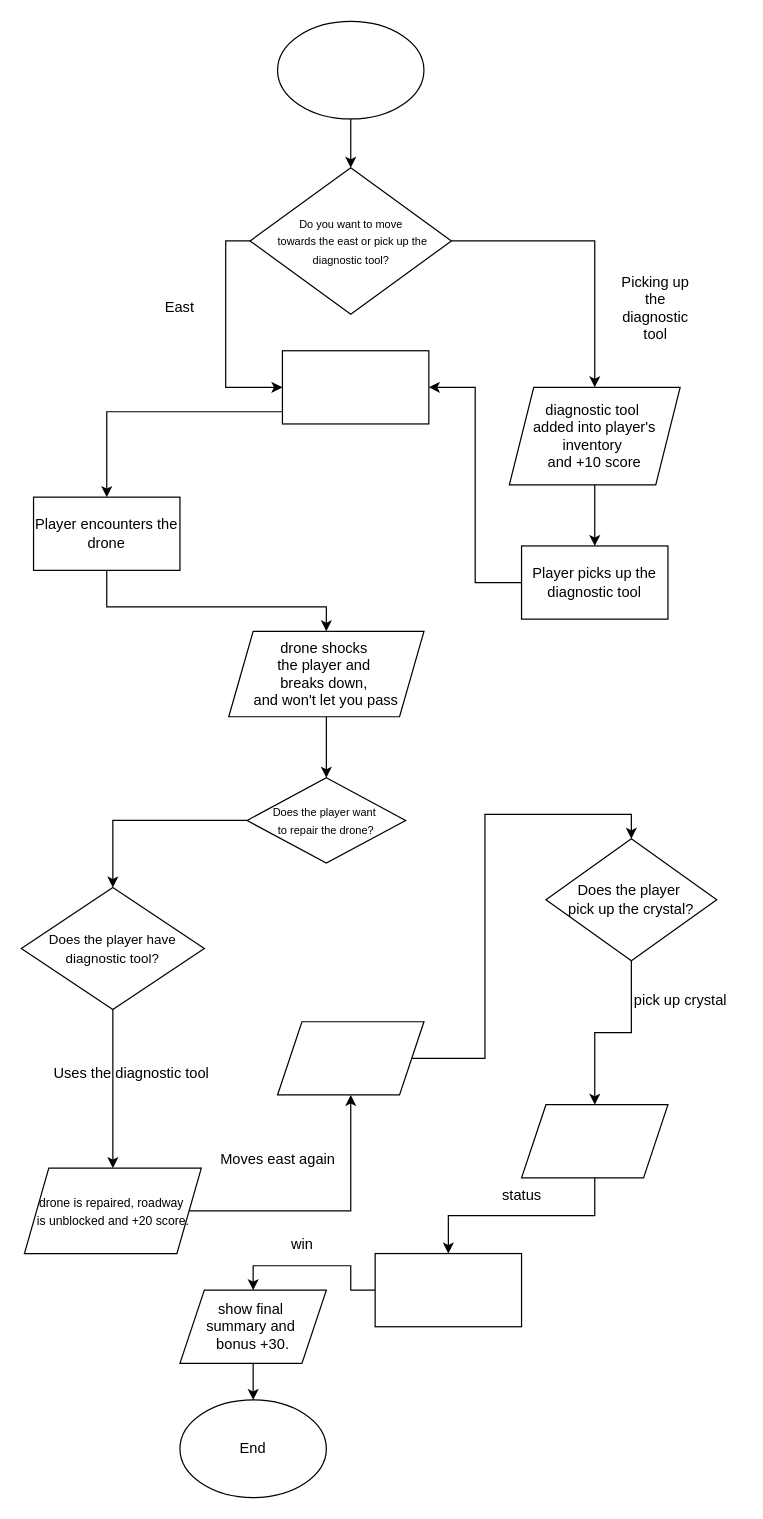
Image size: 763x1519. Some labels were removed from this diagram. The shapes that lost their labels are listed below. From the top down, each one's centre as x and y in pixels, then its label:
At pixel 350 69: "Start".
At pixel 355 387: "Player begins moving towards the East".
At pixel 350 1058: "arrives at the docking bay".
At pixel 594 1140: "crystal is removed and score +50.".
At pixel 448 1289: "Score: 80 Hazards: 1".
